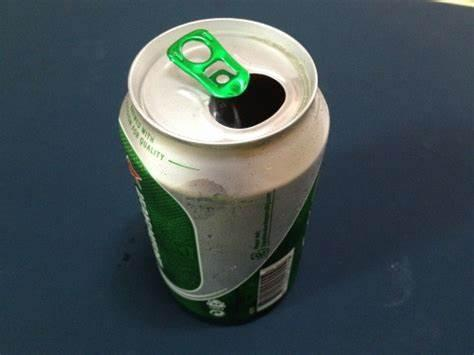metal: (120, 18, 330, 322)
